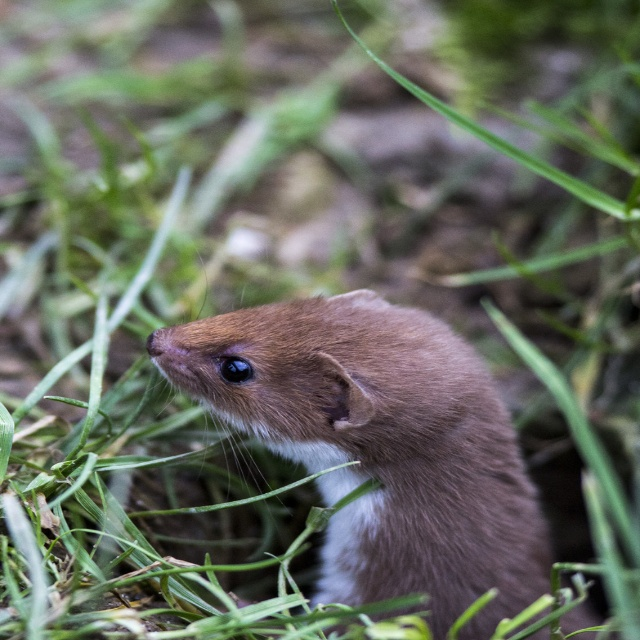Hamster: (131, 227, 597, 640)
